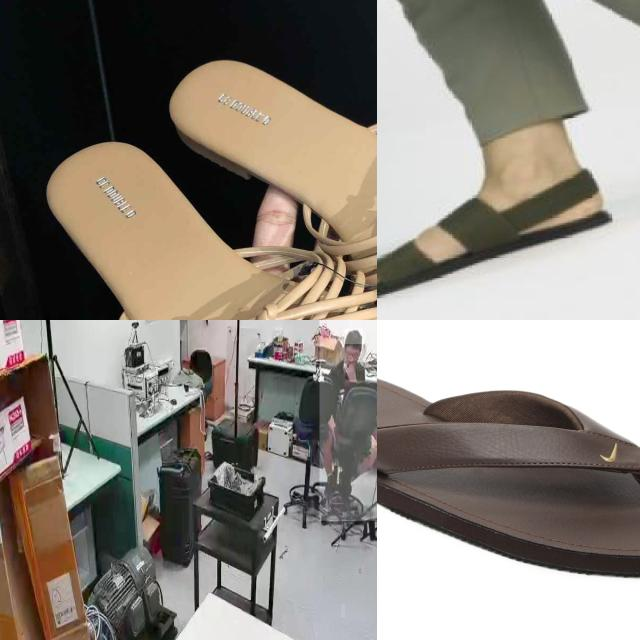Sandals: (16, 34, 377, 320), (377, 366, 640, 582), (377, 149, 613, 310)
face_nomask: (344, 347, 360, 366)
hand_noglove: (345, 361, 357, 380)
head_nohelmet: (345, 329, 363, 345)
person: (319, 320, 377, 522)
